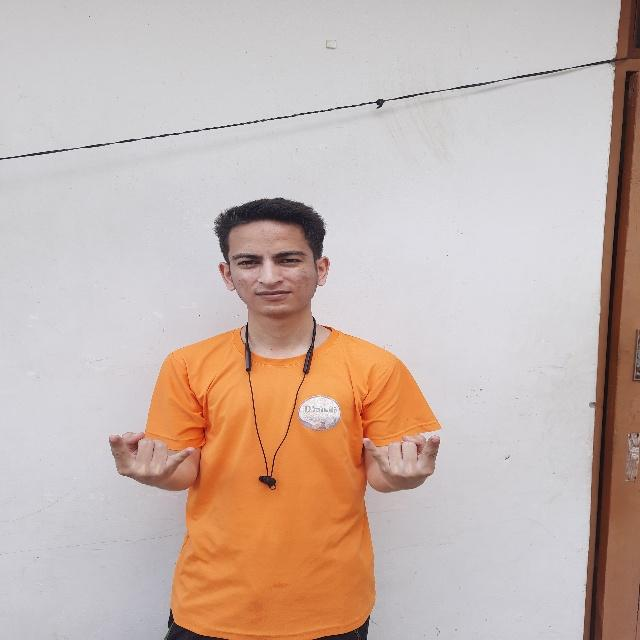Corna: (98, 420, 198, 497), (348, 422, 444, 493)
